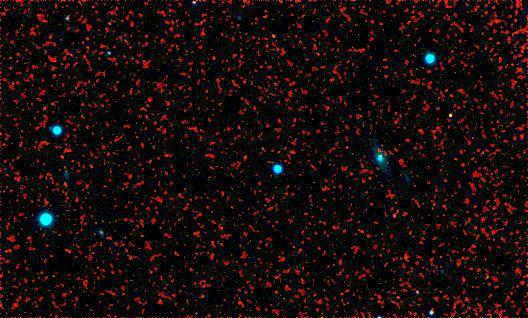star: (433, 103, 463, 133)
